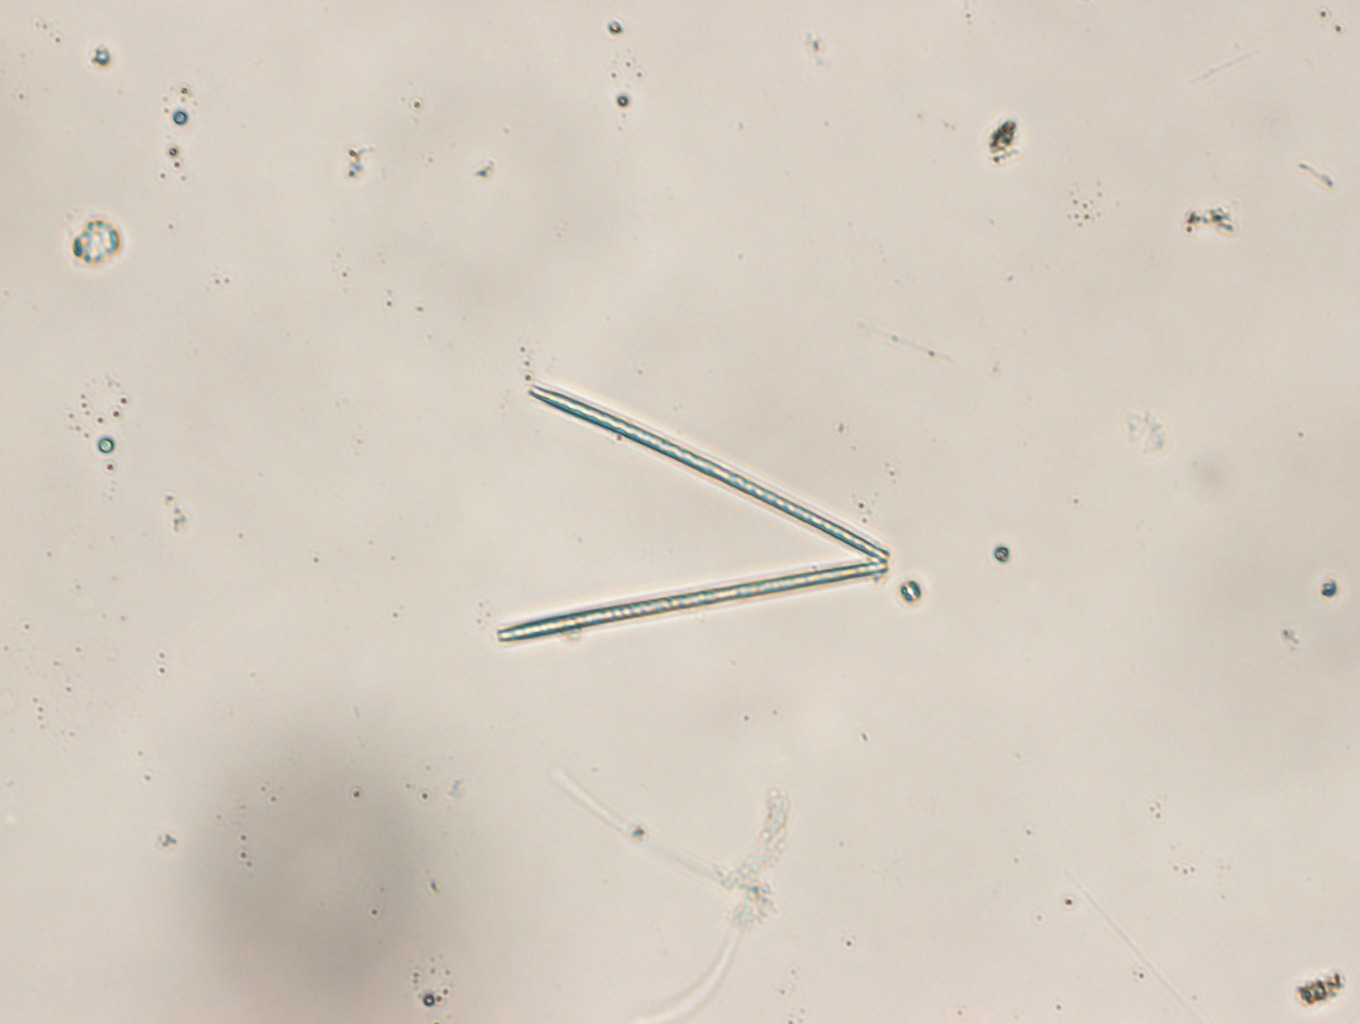thalassionema frauenfeldii: (495, 384, 891, 640)
